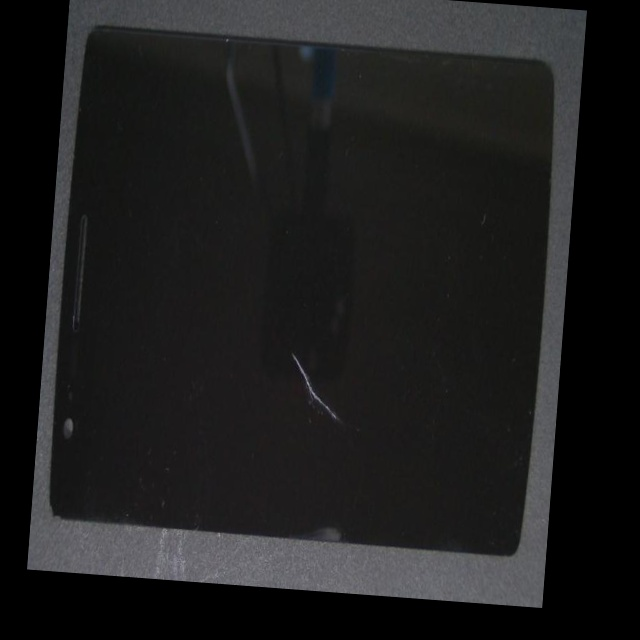scratch: (218, 239, 488, 589)
